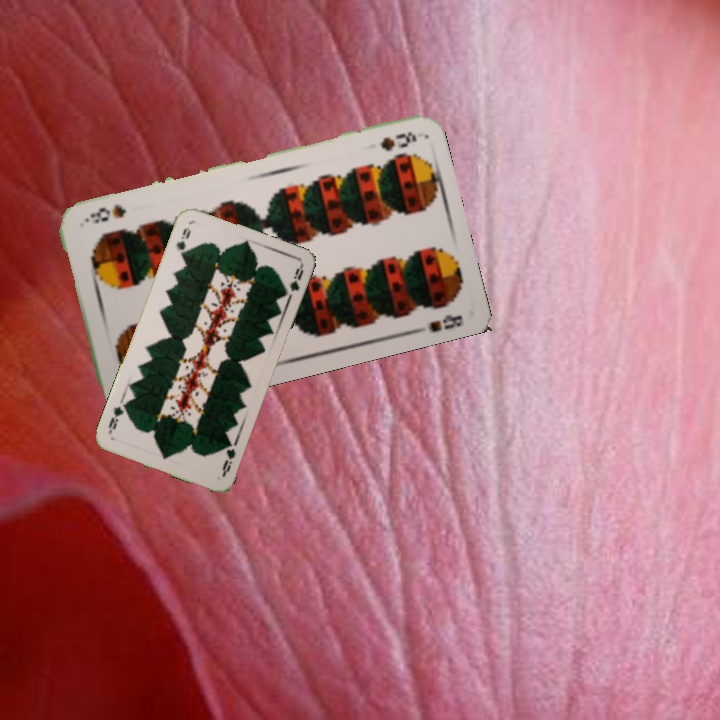G9: (218, 437, 238, 478), (172, 223, 193, 259)
S8: (376, 127, 419, 154)
